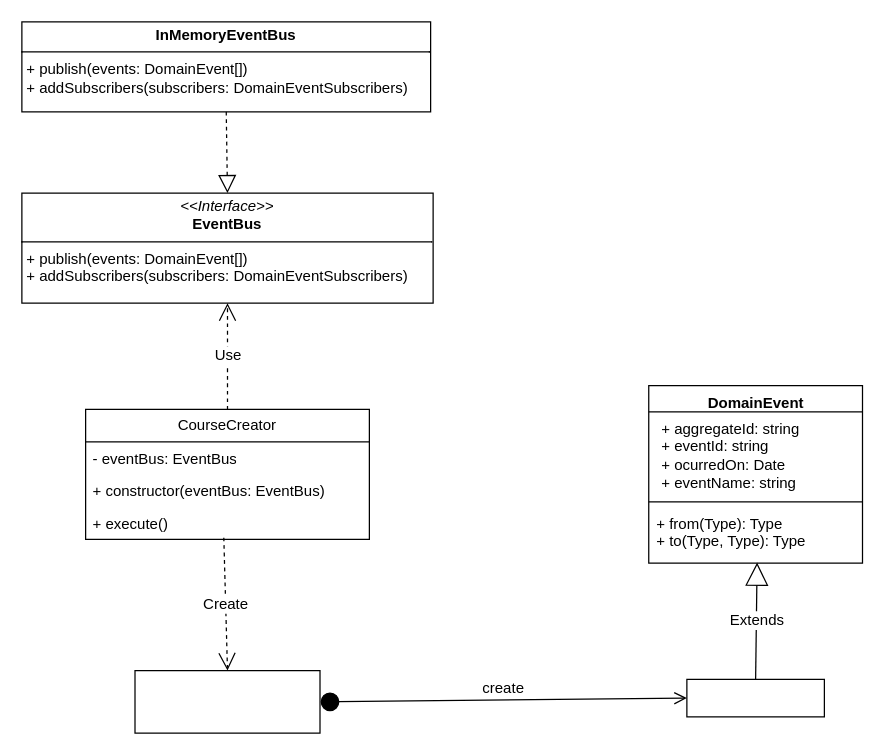
Some shapes in this 885 by 755 pixel diagram are drawn without their labels. Here are the shapes that lost their labels. From the top down, the centre of each, then its label:
At point 227,701: "Course".
At point 755,697: "CourseCreated".
